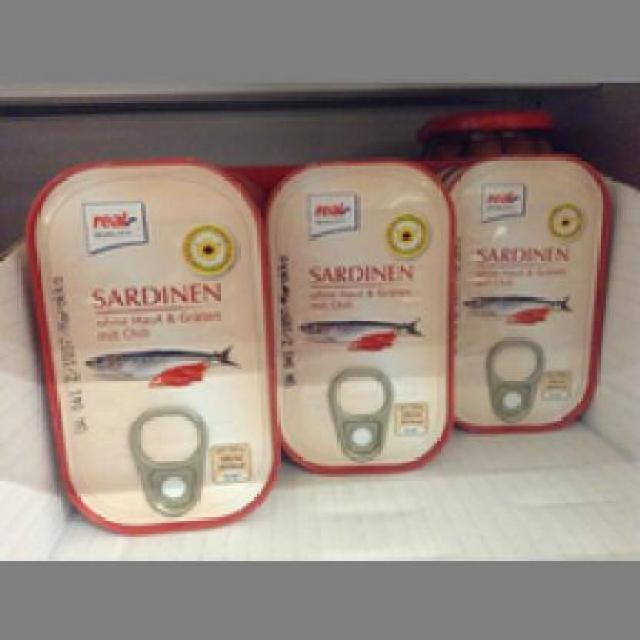Fish: (22, 157, 275, 534), (263, 156, 452, 472), (440, 152, 609, 432)
